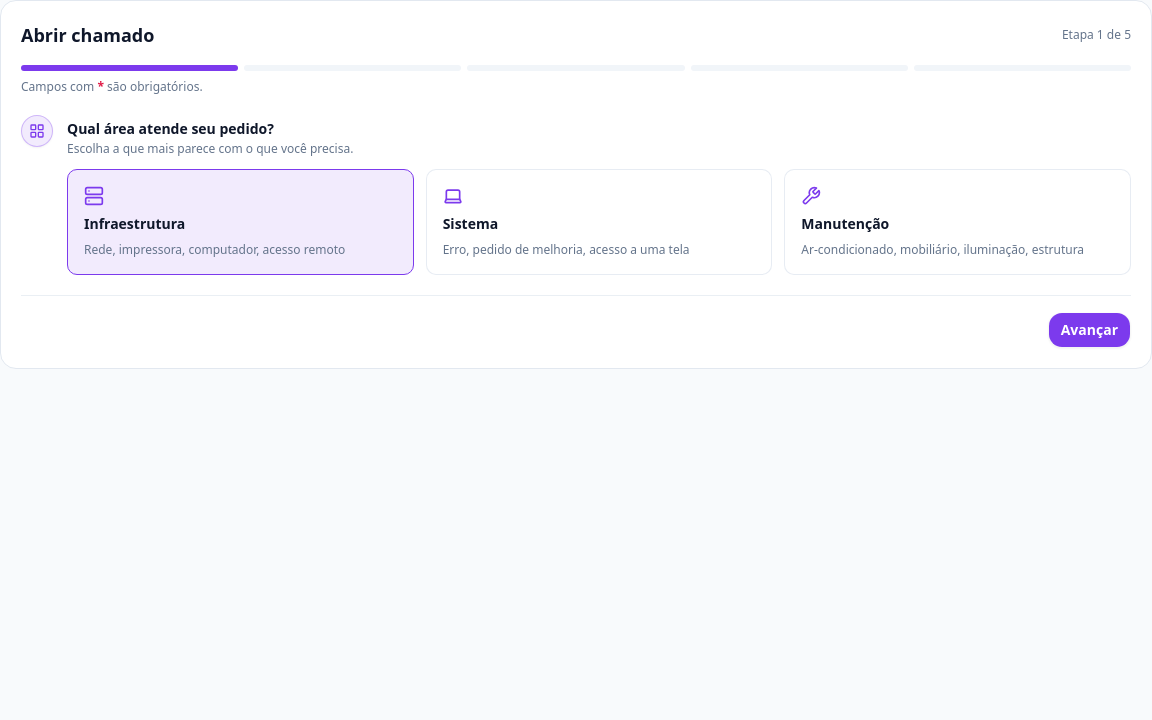
Scenario: AcerolaOpenTicketForm › reports the chosen screenshot on its own step, so the person can check what will be attached
The image size is (1152, 720).
Click the button "Avançar".
click(1089, 330)  # box [1048, 312, 1131, 348]
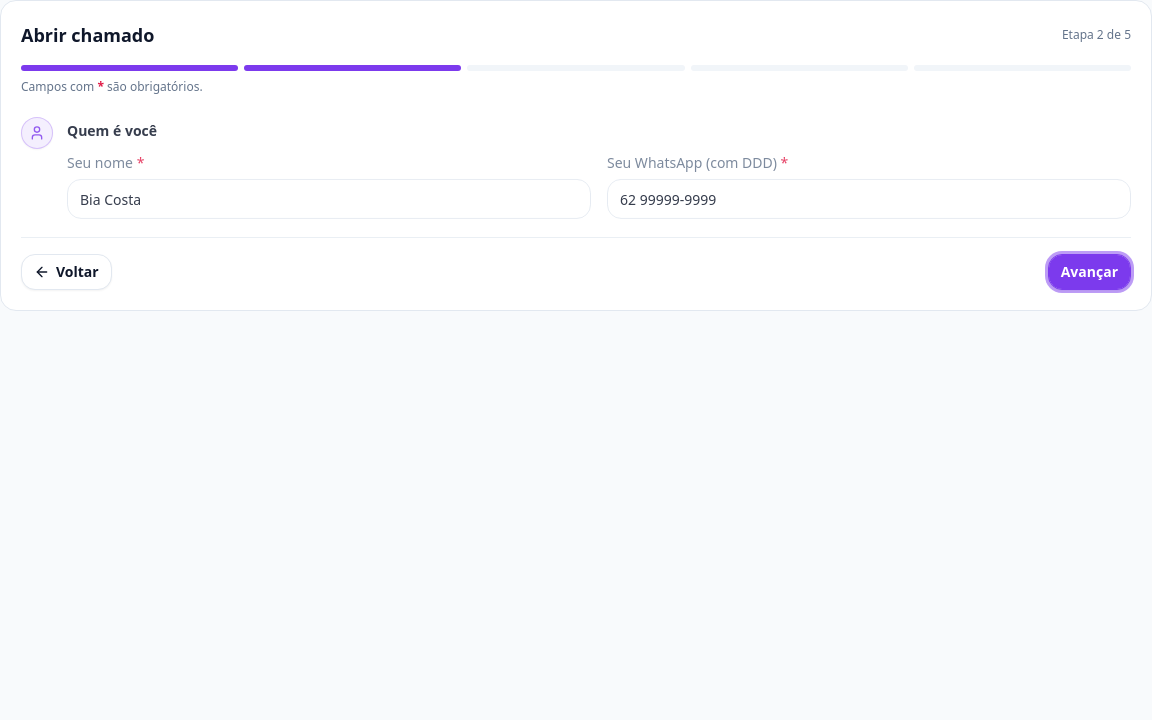
Click the button "Avançar".
click(1089, 272)  # box [1048, 254, 1131, 290]
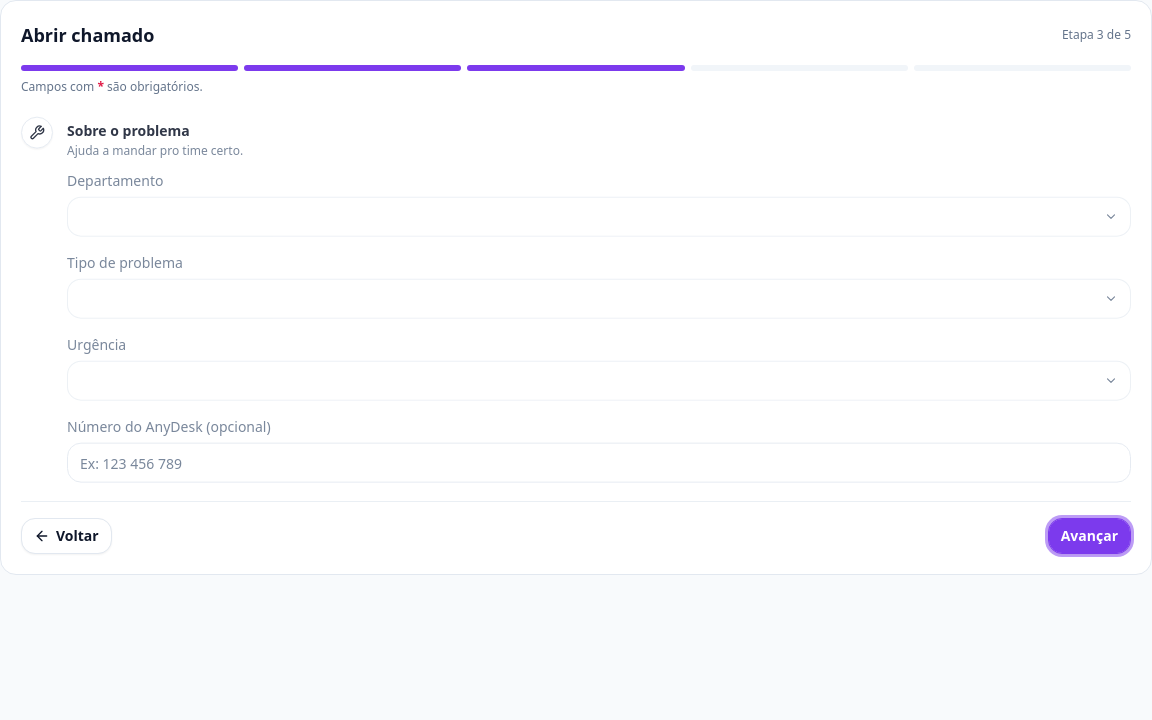
Click the button "Avançar".
click(1089, 536)  # box [1048, 518, 1131, 554]
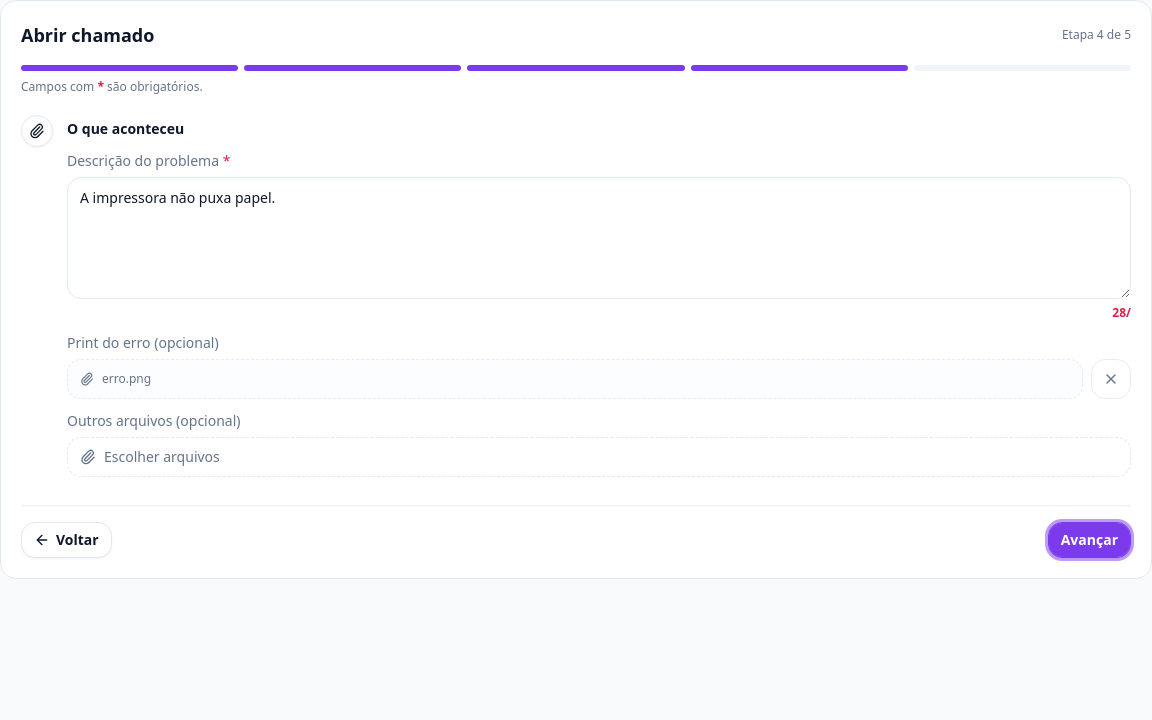
expect the text "erro.png" is shown: met, box [102, 371, 151, 387]
